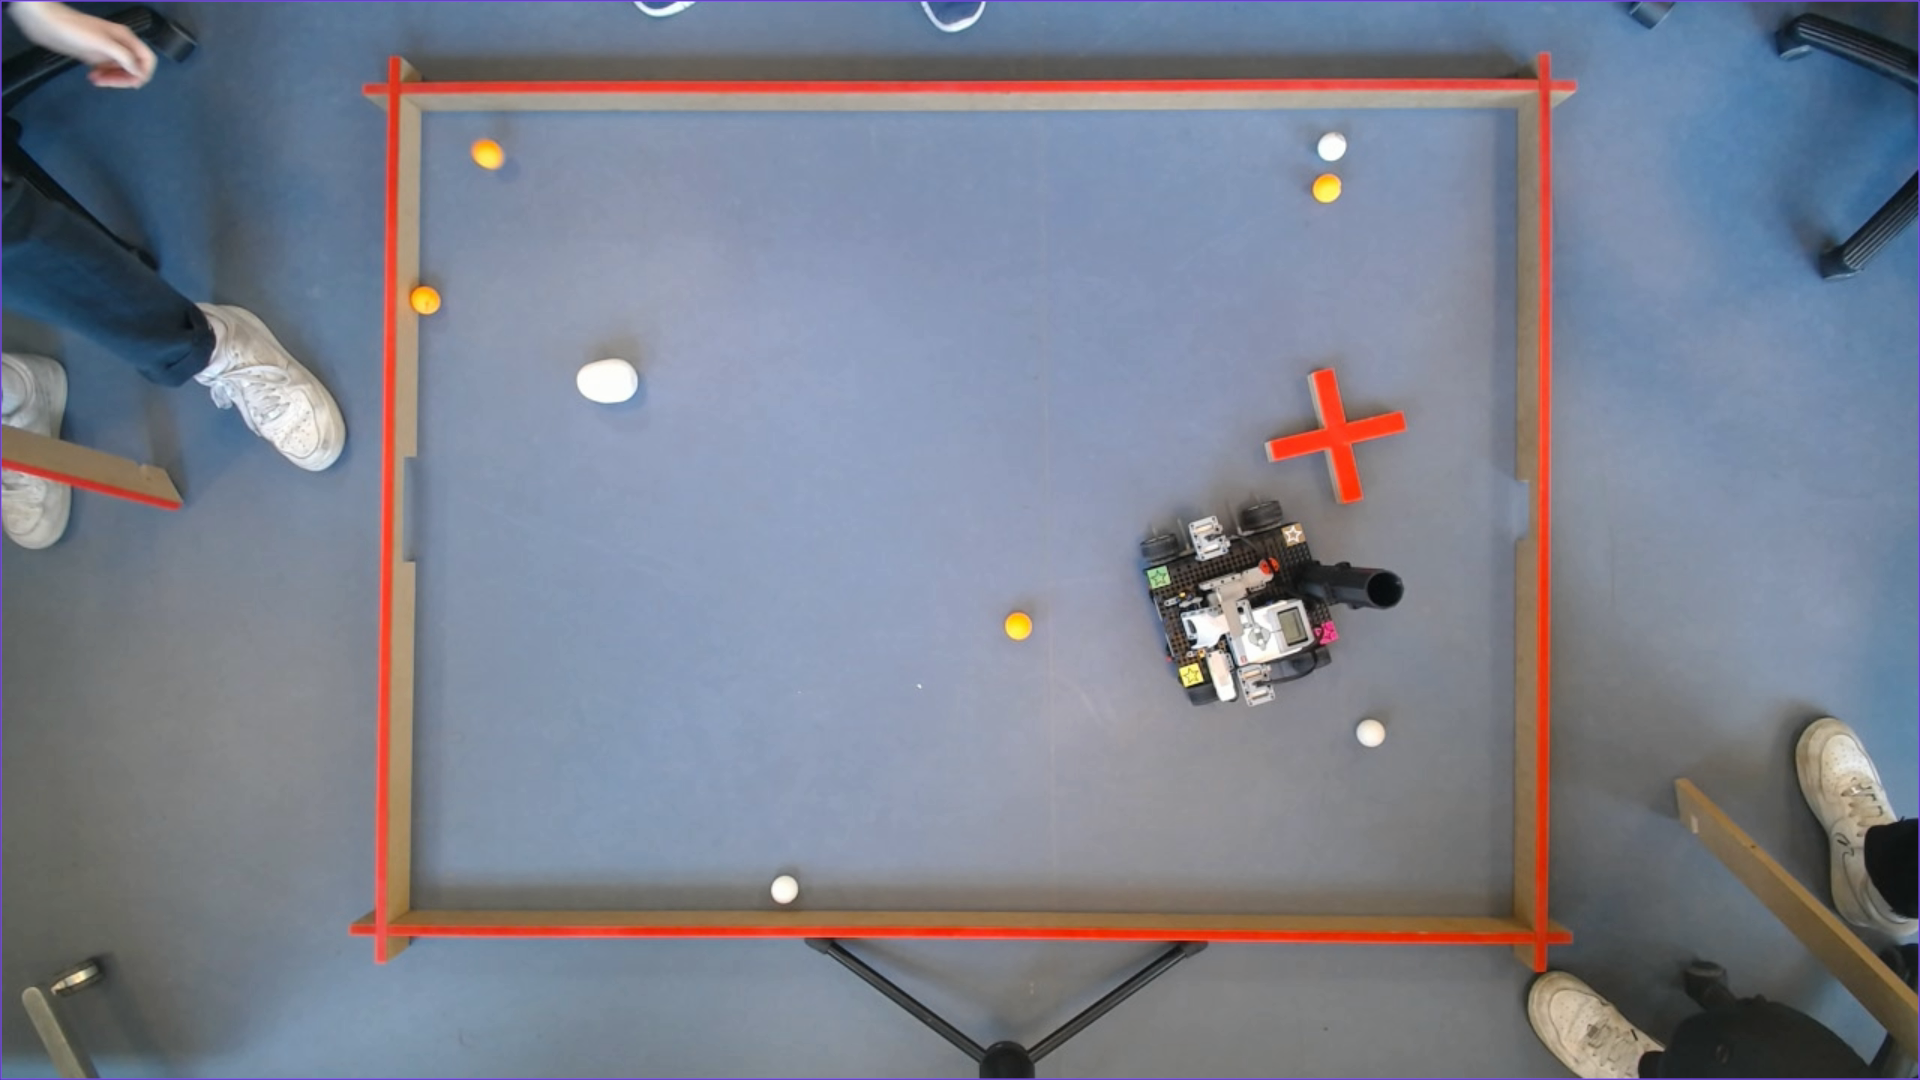ball_orange: (1309, 171, 1342, 207), (469, 138, 502, 169), (1004, 611, 1034, 640), (413, 287, 442, 311)
ball_white: (1317, 129, 1348, 164), (770, 874, 800, 905), (1354, 719, 1389, 745)
corner_brown: (1280, 525, 1304, 545)
corner_green: (1147, 567, 1170, 589)
corner_pink: (1317, 624, 1340, 646)
corner_yellow: (1179, 665, 1203, 684)
cross: (1262, 365, 1408, 510)
egg: (574, 356, 640, 406)
playfield: (369, 79, 1553, 942)
